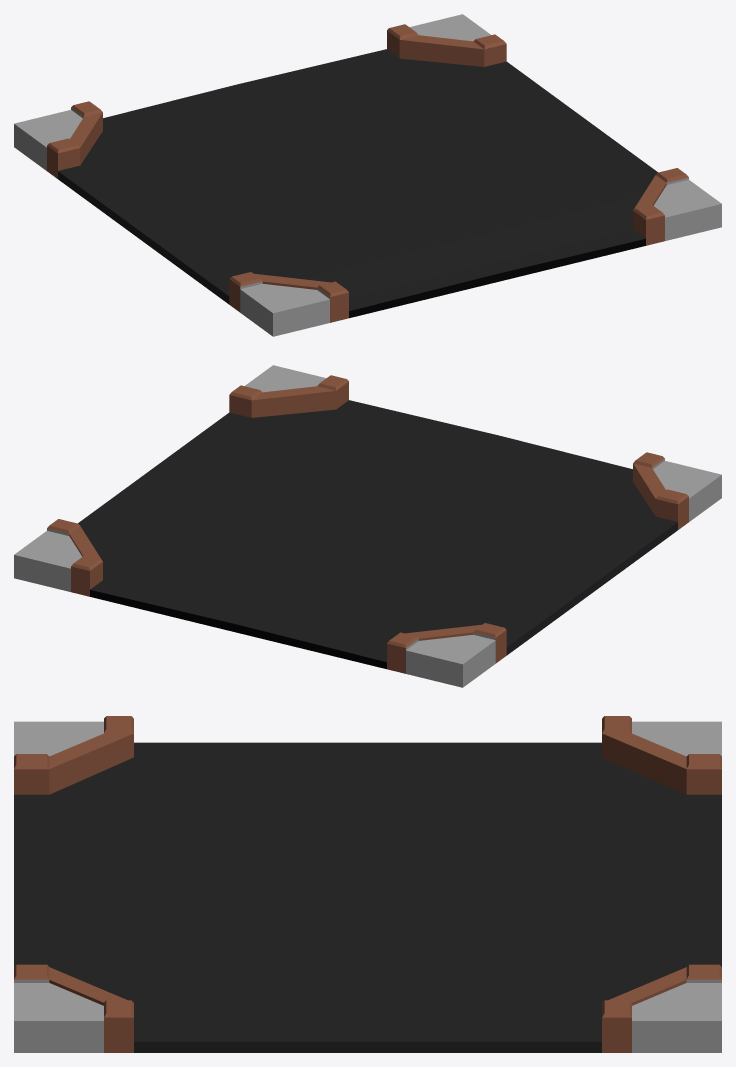
The model's file is road_I_1.fbx.
3 views of the same model, one above another, from view 1: azimuth 30°, elevation 25°; view 2: azimuth 150°, elevation 25°; view 3: azimuth 270°, elevation 25° (orthographic). The views are drawn at different scales.
Parts seen in each view (by area): view 1: Road_I_1; view 2: Road_I_1; view 3: Road_I_1.
Part boxes in pixels (x1,y1,x2,y2): Road_I_1: [14, 14, 721, 336]; Road_I_1: [14, 365, 721, 687]; Road_I_1: [14, 716, 721, 1052].
Bounding box in the file's own units: 100 × 6.05 × 100.
